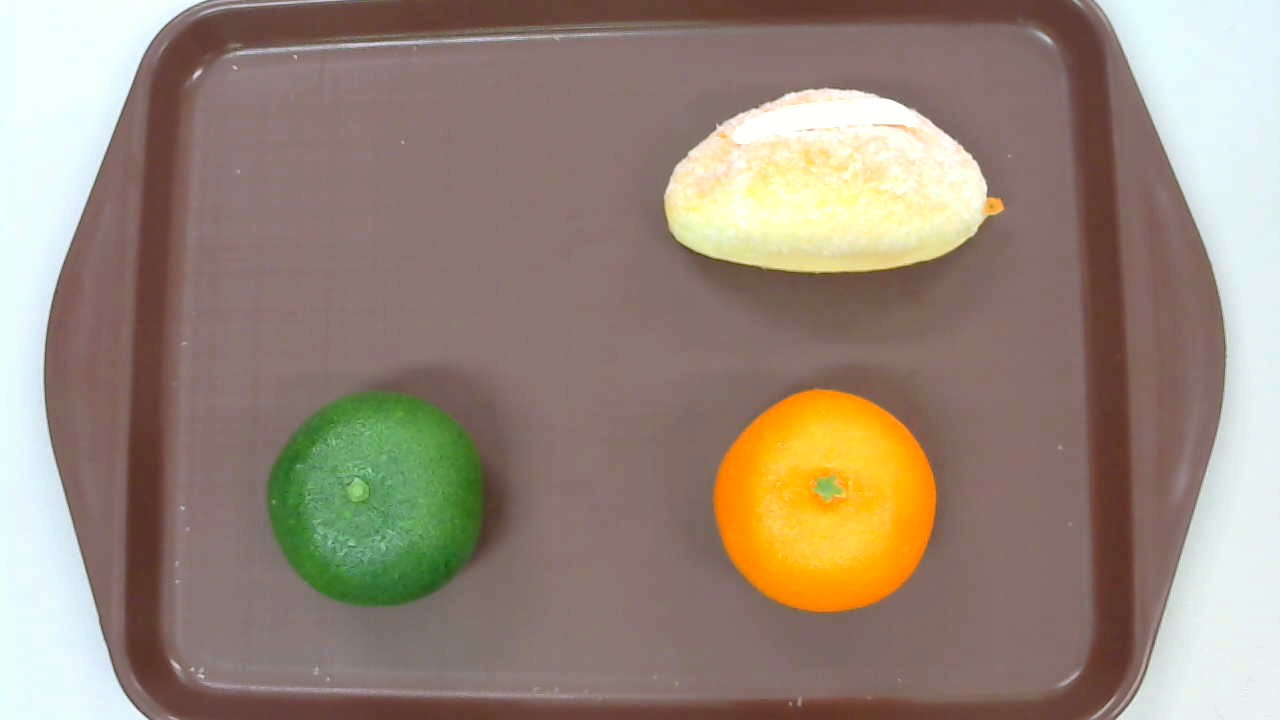coconut: (664, 86, 1004, 272)
green orange: (267, 390, 485, 608)
orange: (714, 388, 937, 611)
